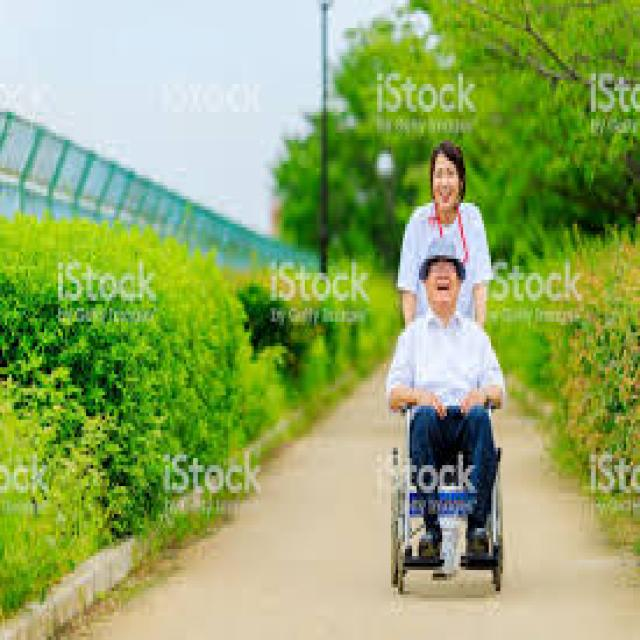wheelchairs: (354, 374, 516, 626)
